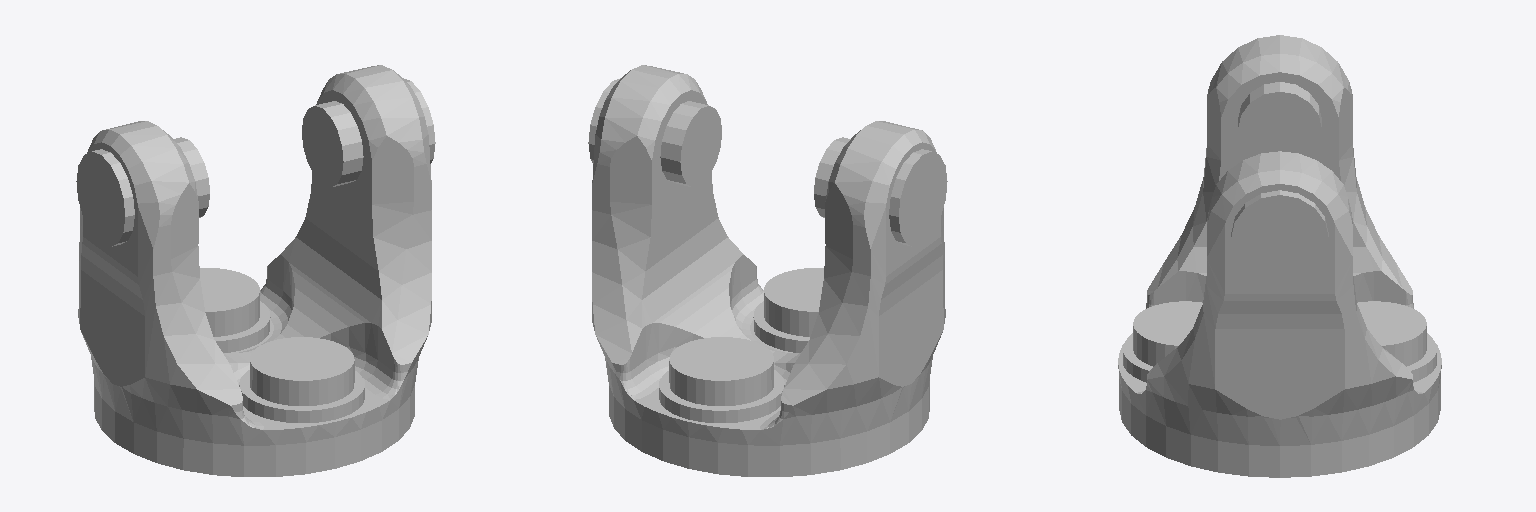
The model's file is geo-742e09be-be41-4910-851c-e554dac5b080.obj.
3 views of the same model, side by side, from view 1: azimuth 30°, elevation 25°; view 2: azimuth 150°, elevation 25°; view 3: azimuth 270°, elevation 25° (orthographic).
Parts seen in each view (by area): view 1: 0; view 2: 0; view 3: 0.
Boxes of the visible parts, <box> form: 0: <box>76,65,435,476</box>; 0: <box>588,65,947,476</box>; 0: <box>1118,35,1441,477</box>.
Size of the model in its own units: 51.29 by 48.78 by 46.31.